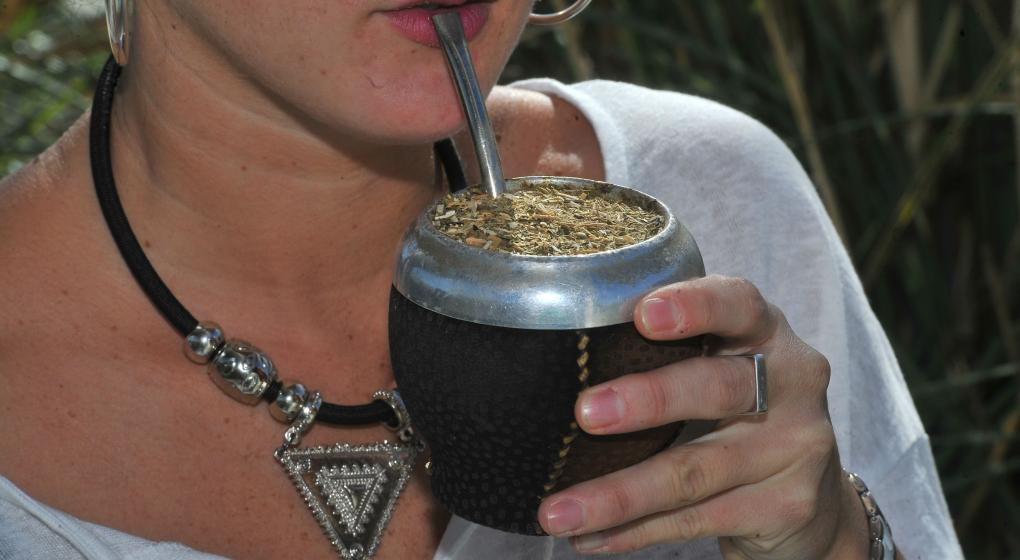guampa: (369, 12, 687, 525)
